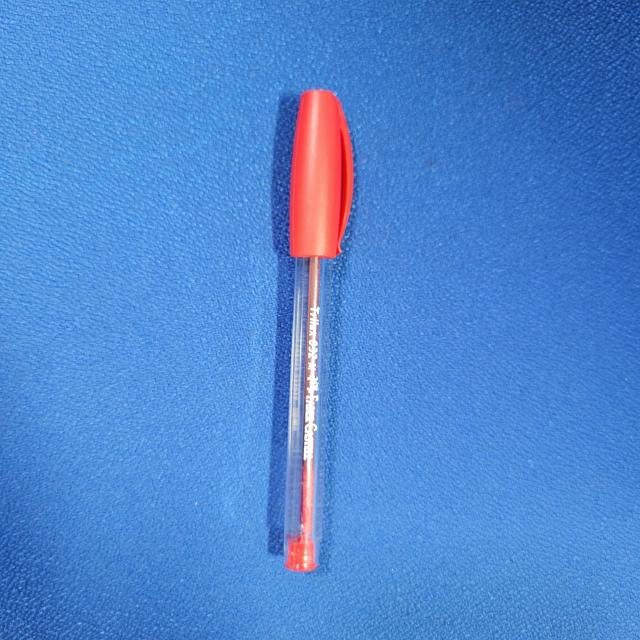caneta: (253, 78, 377, 585)
